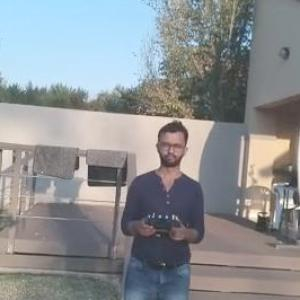follow: (113, 116, 210, 299)
